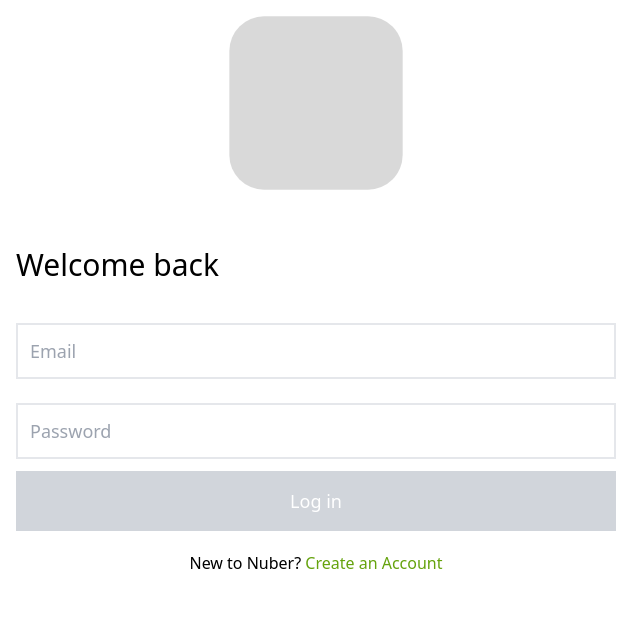
Log In › can see email / password validation errors
In the field with placeholder "Email": (316, 351) [16,323,616,379], type "bad@email"
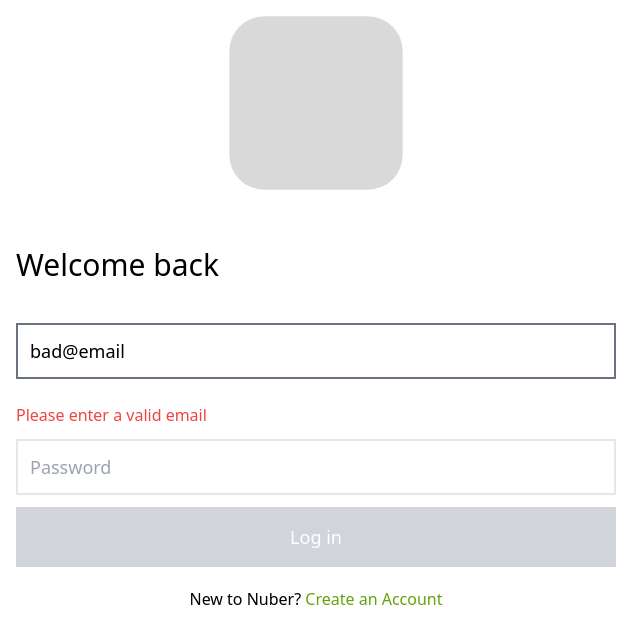
Expected: the message reads "Please enter a valid email", [16,404,207,426]
Clear the field with placeholder "Email": (316, 351) [16,323,616,379]
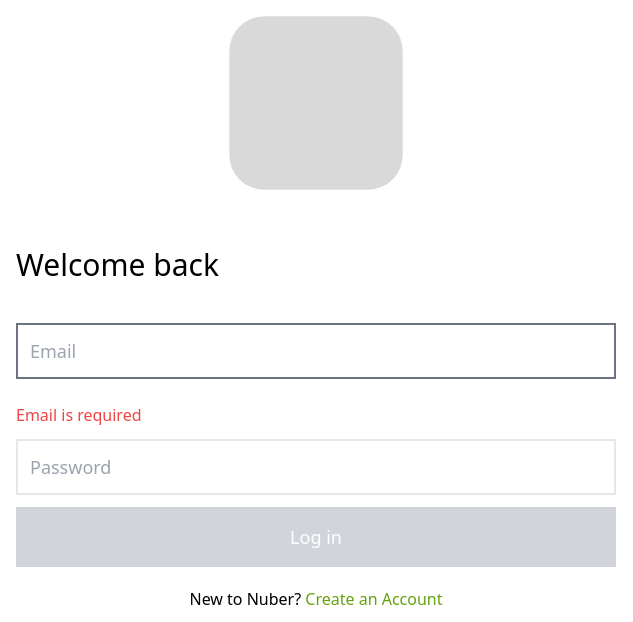
Expected: the message reads "Email is required", [16,404,142,426]
In the field with placeholder "Email": (316, 351) [16,323,616,379], type "bad@email.com"
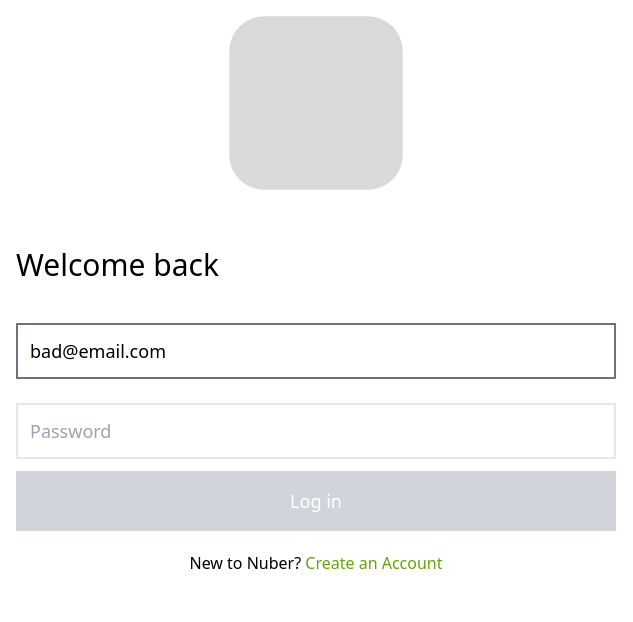
In the password field with placeholder "Password": (316, 431) [16,403,616,459], type "a"
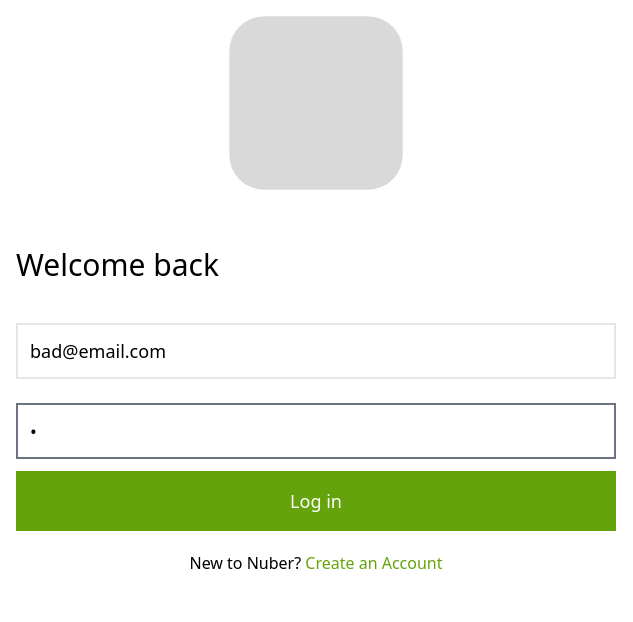
Clear the password field with placeholder "Password": (316, 431) [16,403,616,459]
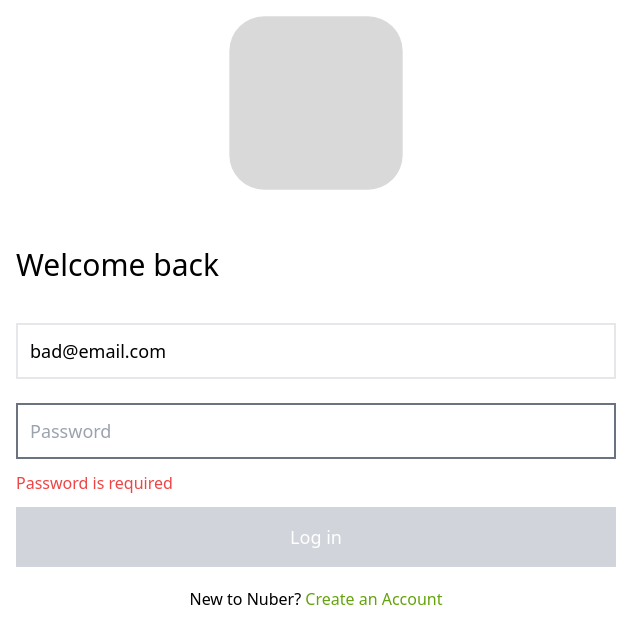
Expected: the message reads "Password is required", [16,472,173,494]
